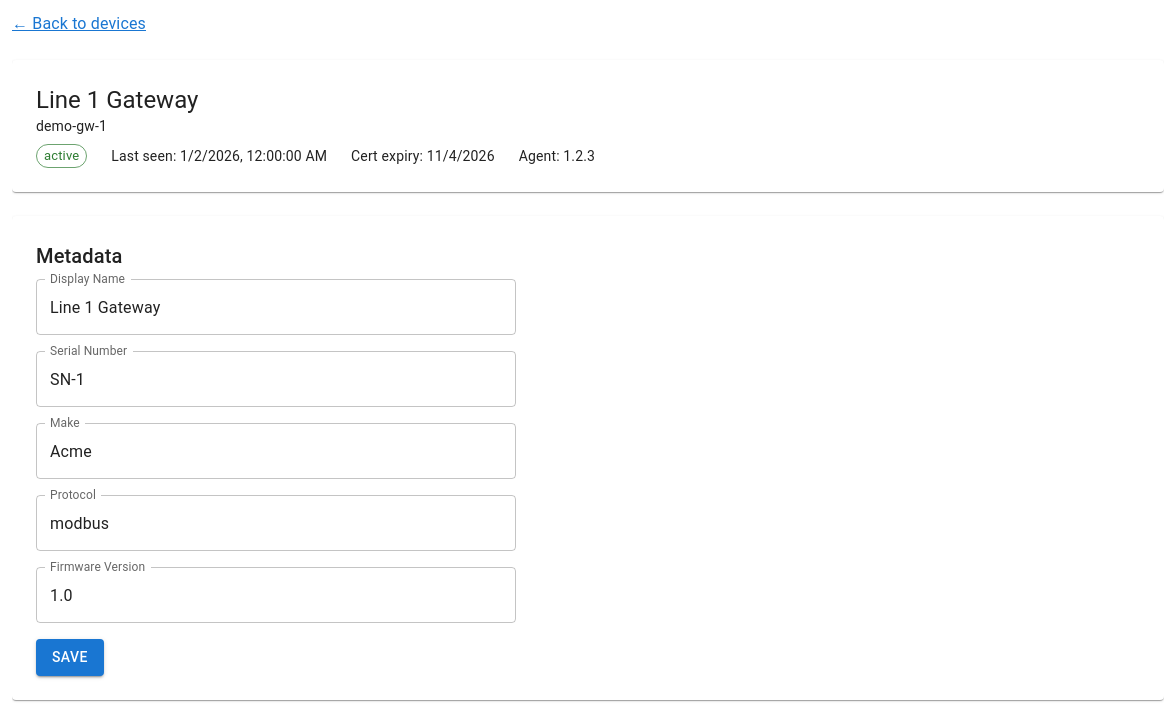
Test: DeviceDetailPage › saves metadata edits via PATCH and shows the updated value
Replace the text in the field labelled "Make" with "Updated Make" at (276, 451), box [36,423,516,479]
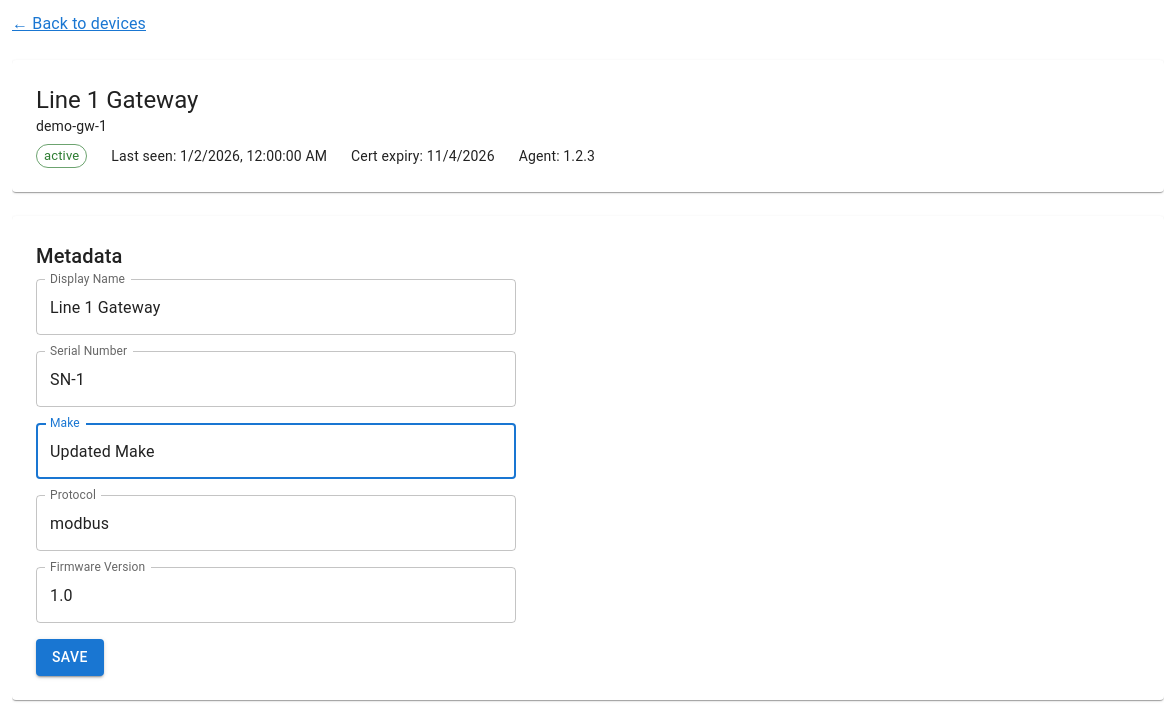
Click the button "Save".
click(70, 657)  # box [36,639,104,676]
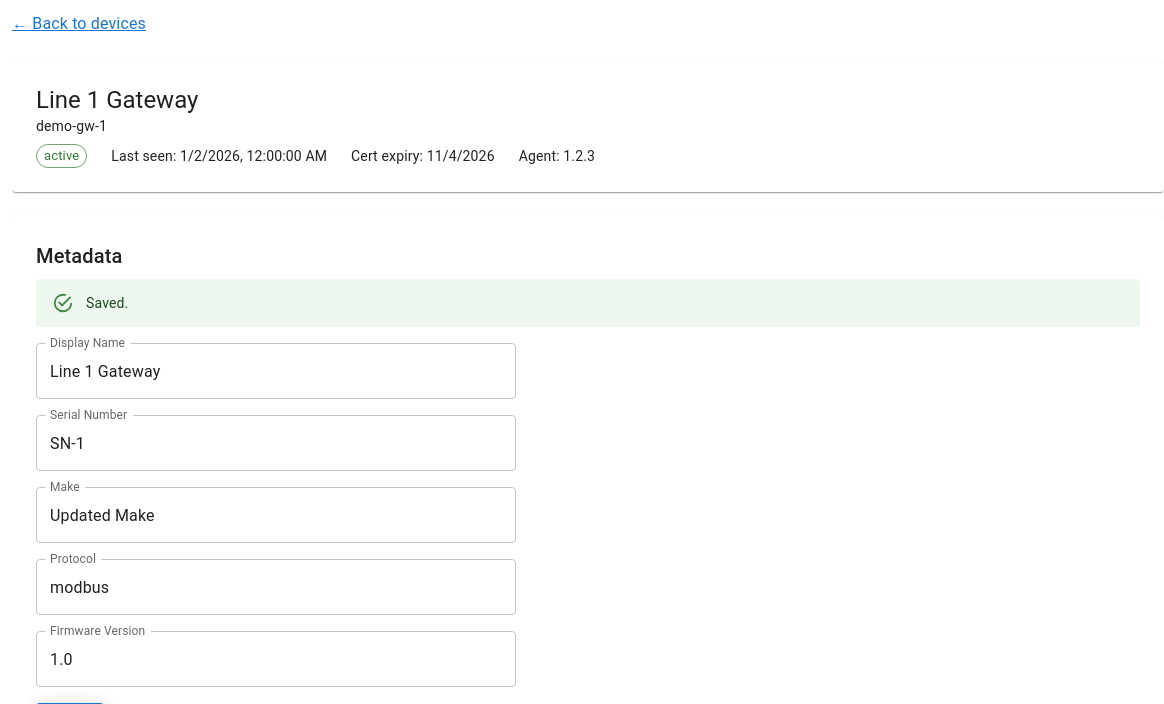
Now the text "Saved." is shown, box [86,295,128,311]
